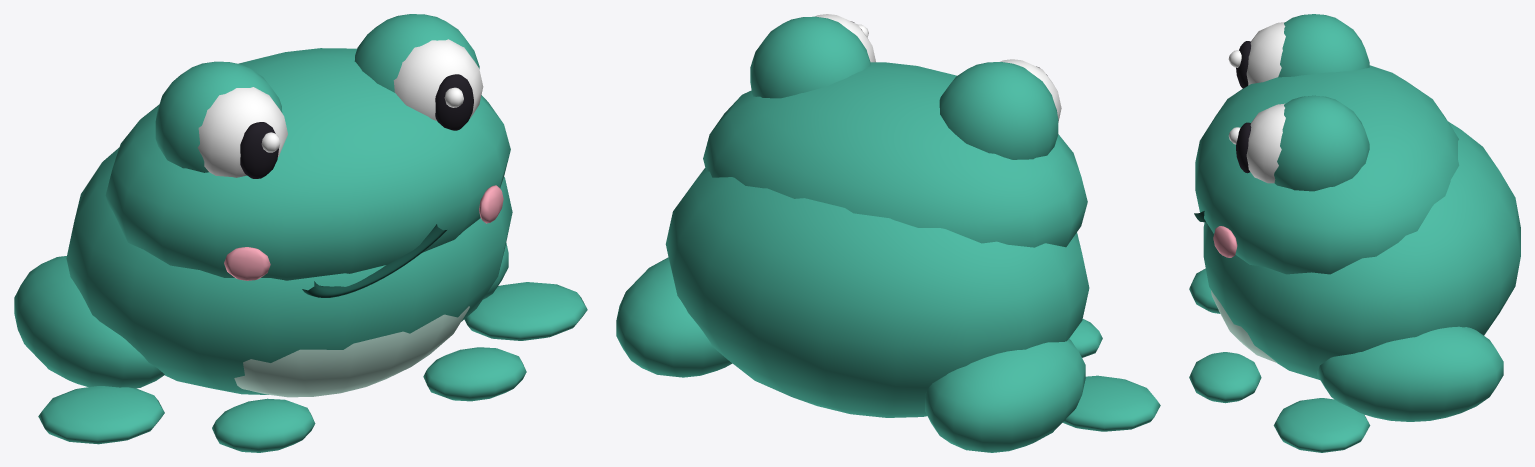
The model's file is charquito.glb.
3 renders of one model, left to right at view 1: azimuth 30°, elevation 25°; view 2: azimuth 150°, elevation 25°; view 3: azimuth 270°, elevation 25°, orthographic. The views are drawn at different scales.
Parts seen in each view (by area): view 1: head, body, back_leg_R, belly, eye_bump_R, back_foot_R, back_foot_L, eye_white_R, front_foot_L, front_foot_R, eye_bump_L, eye_white_L (+5 smaller); view 2: body, head, back_leg_R, eye_bump_R, back_leg_L, eye_bump_L, back_foot_R, front_foot_R, eye_white_R, eye_white_L; view 3: body, head, back_leg_L, eye_bump_L, eye_bump_R, back_foot_L, front_foot_L, eye_white_L, eye_white_R, front_foot_R, belly, cheek_L (+2 smaller).
Boxes of the visible parts, <box> form: head: <box>105,48,510,280</box>; body: <box>66,147,512,394</box>; back_leg_R: <box>14,256,164,388</box>; belly: <box>234,306,469,397</box>; eye_bump_R: <box>155,61,282,172</box>; back_foot_R: <box>38,386,164,444</box>; back_foot_L: <box>464,282,587,340</box>; eye_white_R: <box>197,87,287,177</box>; front_foot_L: <box>423,347,526,401</box>; front_foot_R: <box>212,398,315,452</box>; eye_bump_L: <box>354,14,479,92</box>; eye_white_L: <box>393,39,483,120</box>; body: <box>665,168,1089,417</box>; head: <box>703,62,1087,247</box>; back_leg_R: <box>925,339,1085,452</box>; eye_bump_R: <box>939,62,1058,159</box>; back_leg_L: <box>616,257,732,377</box>; eye_bump_L: <box>750,16,870,98</box>; back_foot_R: <box>1062,375,1160,431</box>; front_foot_R: <box>1069,319,1102,357</box>; eye_white_R: <box>1000,59,1061,122</box>; eye_white_L: <box>815,14,875,62</box>; body: <box>1203,121,1520,379</box>; head: <box>1195,65,1459,274</box>; back_leg_L: <box>1317,326,1503,421</box>; eye_bump_L: <box>1274,95,1369,191</box>; eye_bump_R: <box>1278,14,1369,77</box>; back_foot_L: <box>1273,398,1370,452</box>; front_foot_L: <box>1189,352,1261,403</box>; eye_white_L: <box>1246,103,1285,183</box>; eye_white_R: <box>1246,22,1285,85</box>; front_foot_R: <box>1189,268,1220,313</box>; belly: <box>1211,290,1276,362</box>; cheek_L: <box>1213,226,1237,257</box>.
Size of the model in its own units: 1.61 by 1 by 1.
